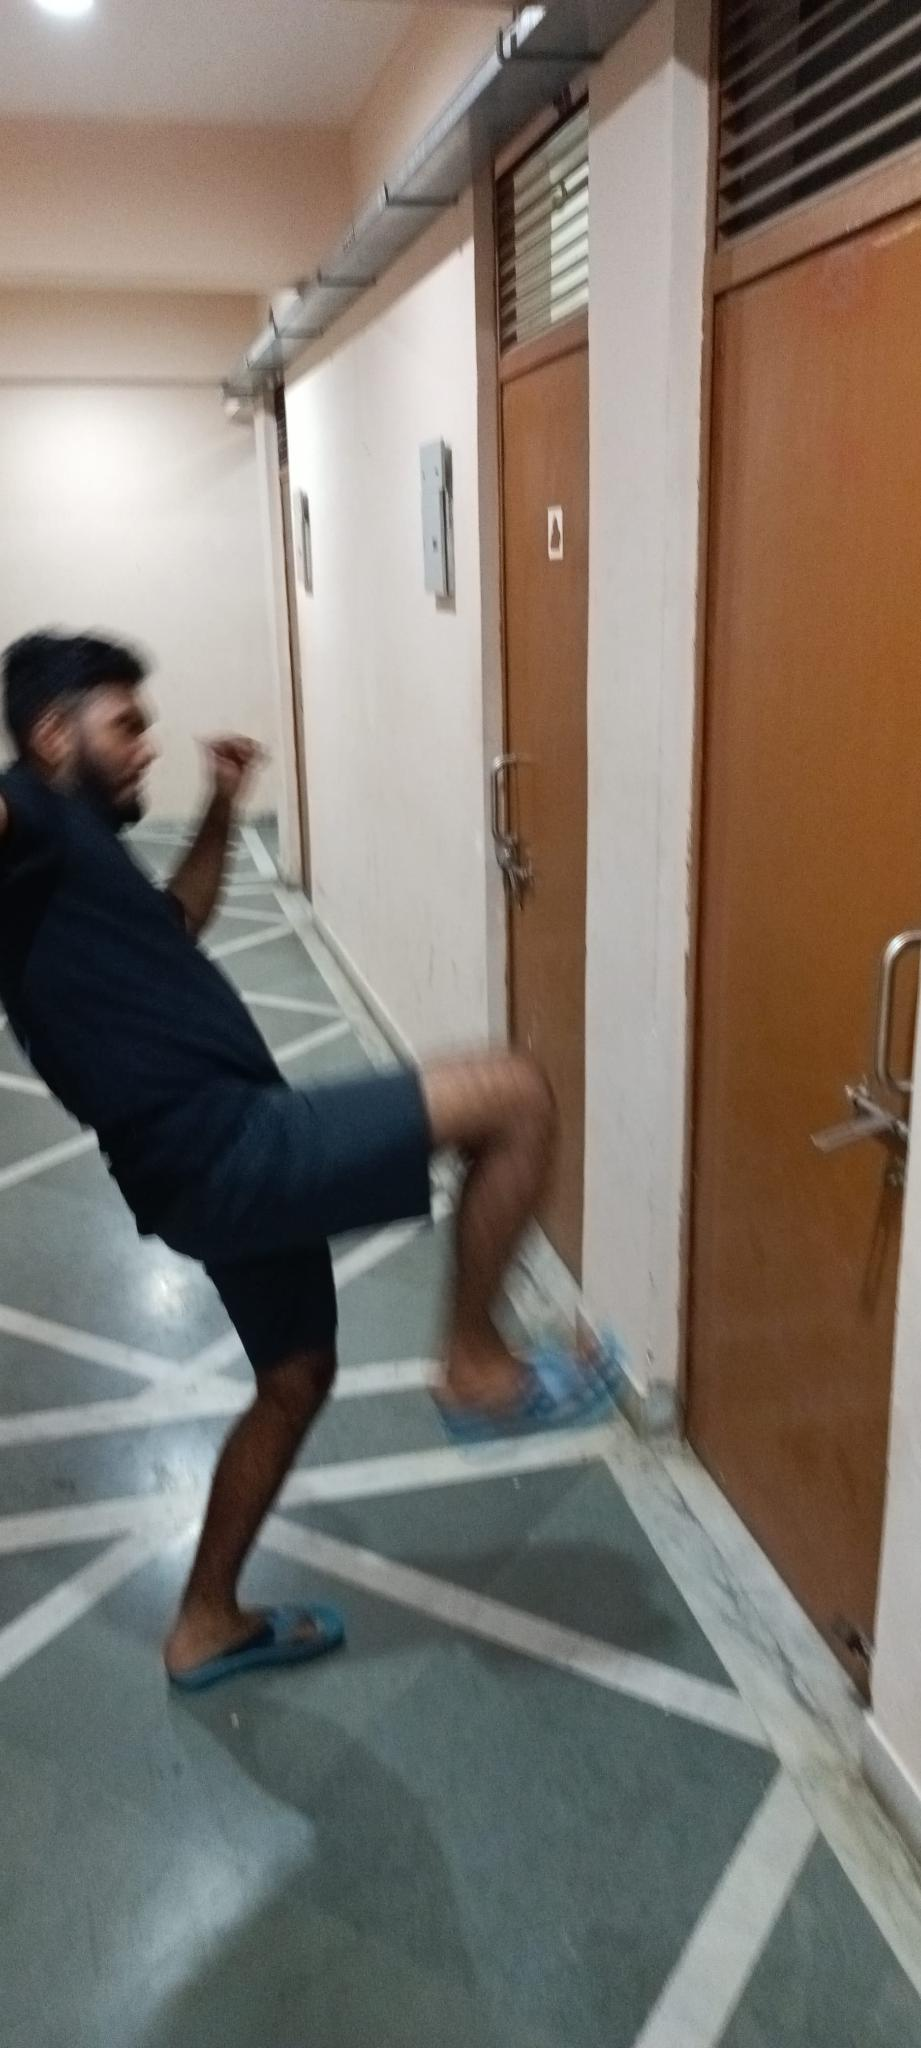suspicion: (5, 482, 921, 1822)
